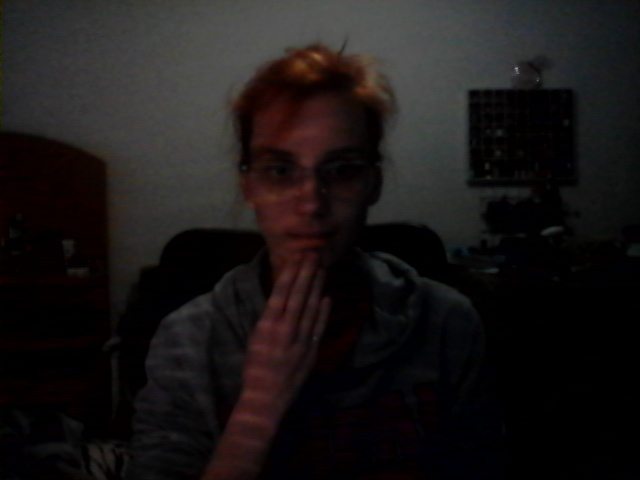dakujem: (232, 248, 346, 397)
